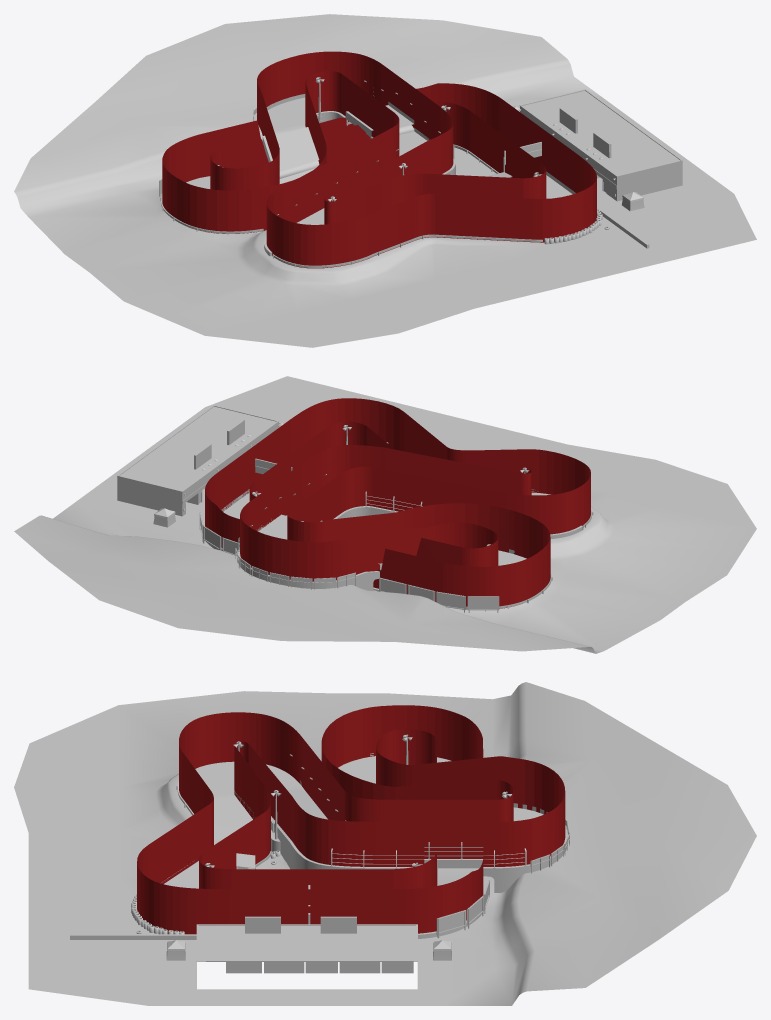
File: escenario-rojo.obj
The picture shows the model from 3 angles, top to bottom: view 1: azimuth 30°, elevation 25°; view 2: azimuth 150°, elevation 25°; view 3: azimuth 270°, elevation 25°; orthographic projection. The views are drawn at different scales.
Parts seen in each view (by area): view 1: StartPannel_Raceway; view 2: StartPannel_Raceway; view 3: StartPannel_Raceway.
Part boxes in pixels (x1,y1,x2,y2): StartPannel_Raceway: [14, 14, 756, 347]; StartPannel_Raceway: [14, 376, 756, 653]; StartPannel_Raceway: [14, 682, 756, 1005].
Size of the model in its own units: 21.12 by 2.75 by 21.07.
